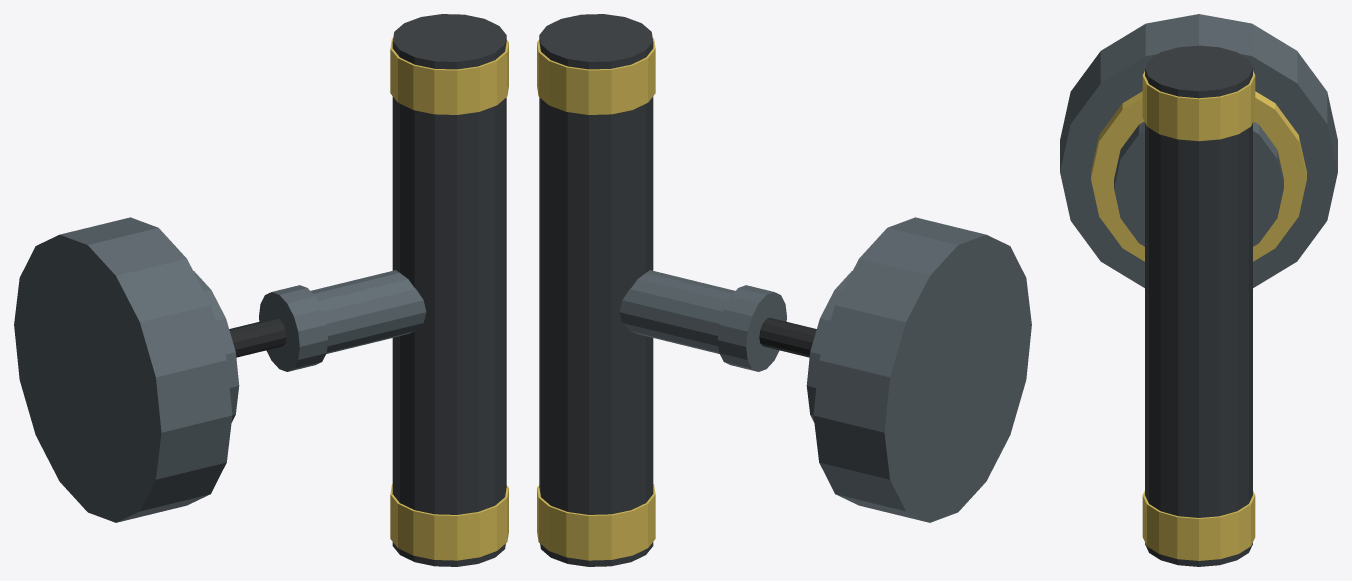
The model's file is lancer-starter.glb.
The picture shows the model from 3 angles, left to right: view 1: azimuth 30°, elevation 25°; view 2: azimuth 150°, elevation 25°; view 3: azimuth 270°, elevation 25°; orthographic projection. The views are drawn at different scales.
Visible parts, largest first — view 1: StarterPullGrip, StarterSocket, StarterCord; view 2: StarterPullGrip, StarterSocket, StarterCord; view 3: StarterPullGrip, StarterSocket.
Part boxes in pixels (x1,y1,x2,y2): StarterPullGrip: (259, 14, 508, 566); StarterSocket: (14, 217, 239, 522); StarterCord: (229, 317, 286, 357); StarterPullGrip: (537, 14, 786, 566); StarterSocket: (806, 217, 1031, 522); StarterCord: (759, 317, 816, 357); StarterPullGrip: (1142, 45, 1255, 566); StarterSocket: (1060, 14, 1337, 287).
Size of the model in its own units: 0.0583 by 0.068 by 0.036.
